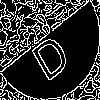D: (25, 24, 73, 83)
